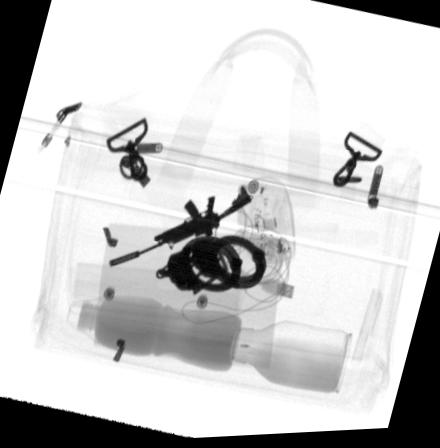Gun: (108, 185, 254, 270)
HandCuffs: (156, 235, 268, 296)
